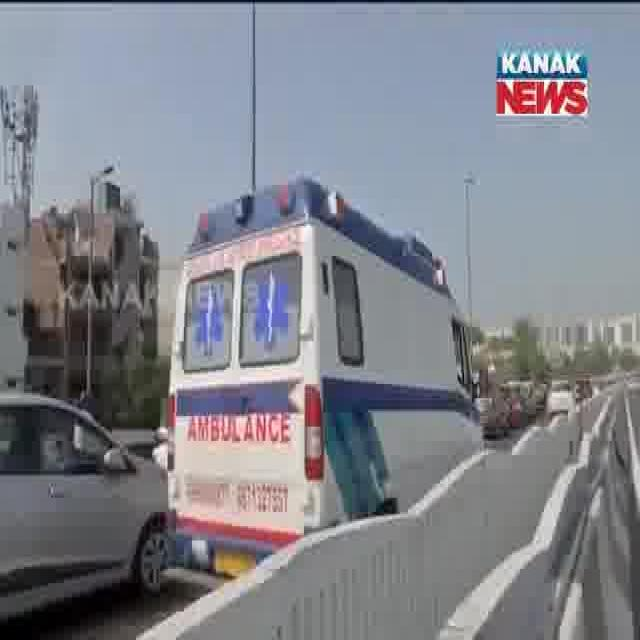ambulance: (161, 176, 488, 576)
